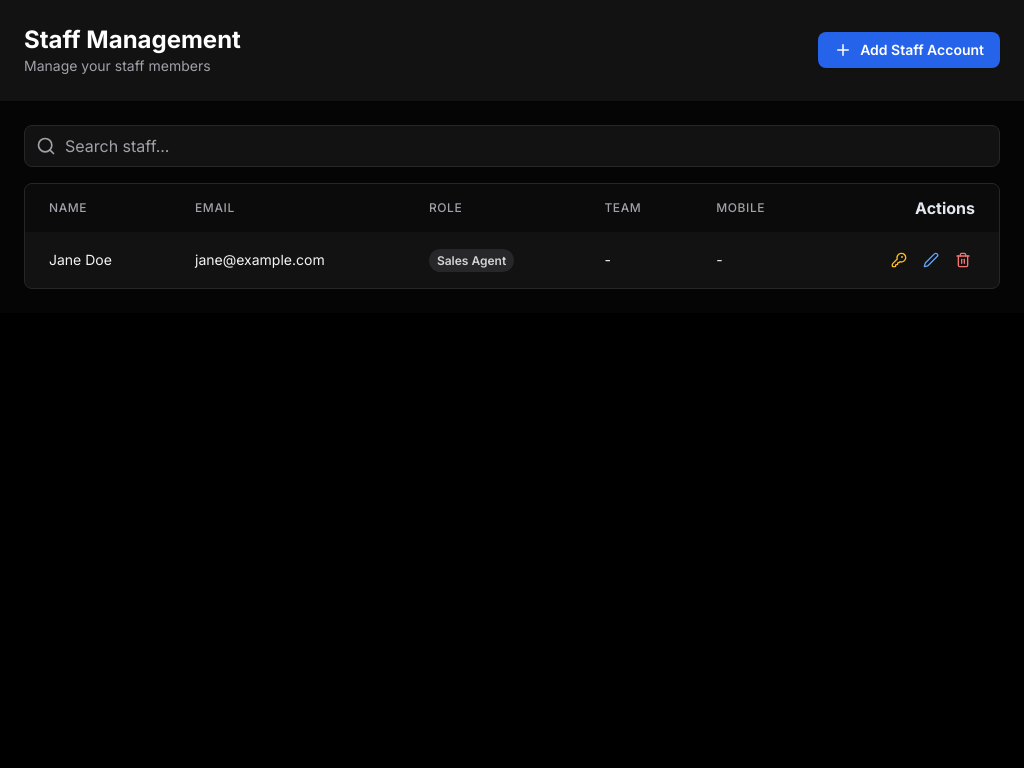
Scenario: Staff Management › lets the Master User change a staff password and warns about sign-out
Click the button named "Change password for Jane Doe" at (899, 260), box [887,248,911,272]
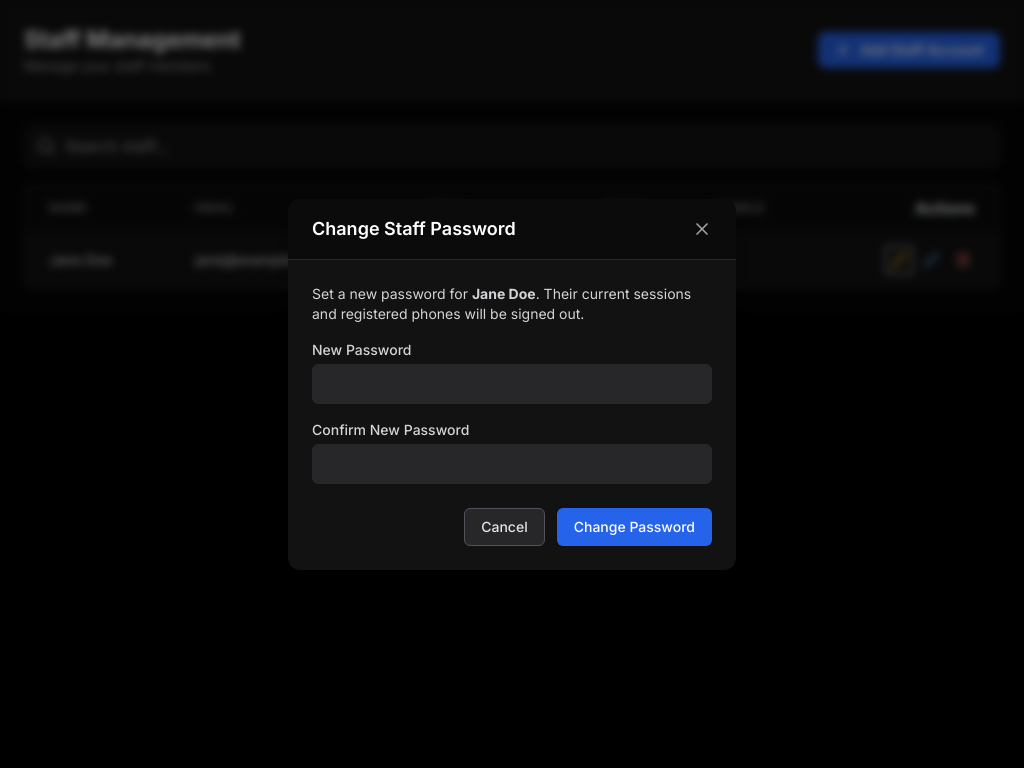
Type "NewStrongPass1" into the password field labelled "New Password" at (512, 384), box [312,364,712,404]
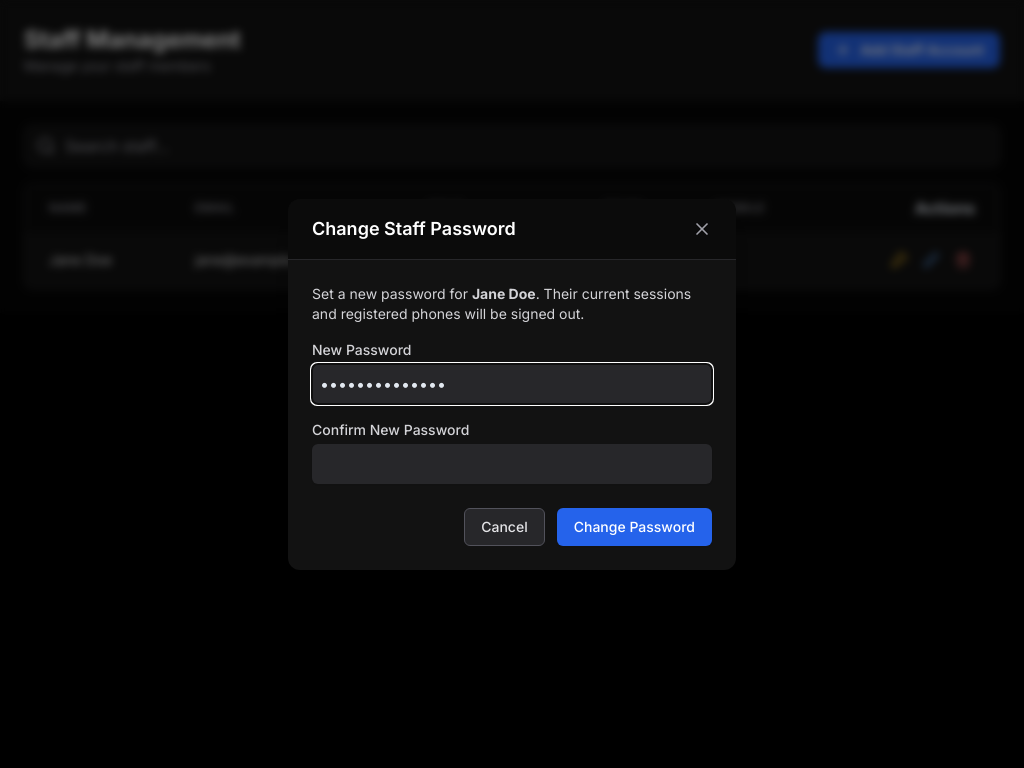
Type "NewStrongPass1" into the password field labelled "Confirm New Password" at (512, 464), box [312,444,712,484]
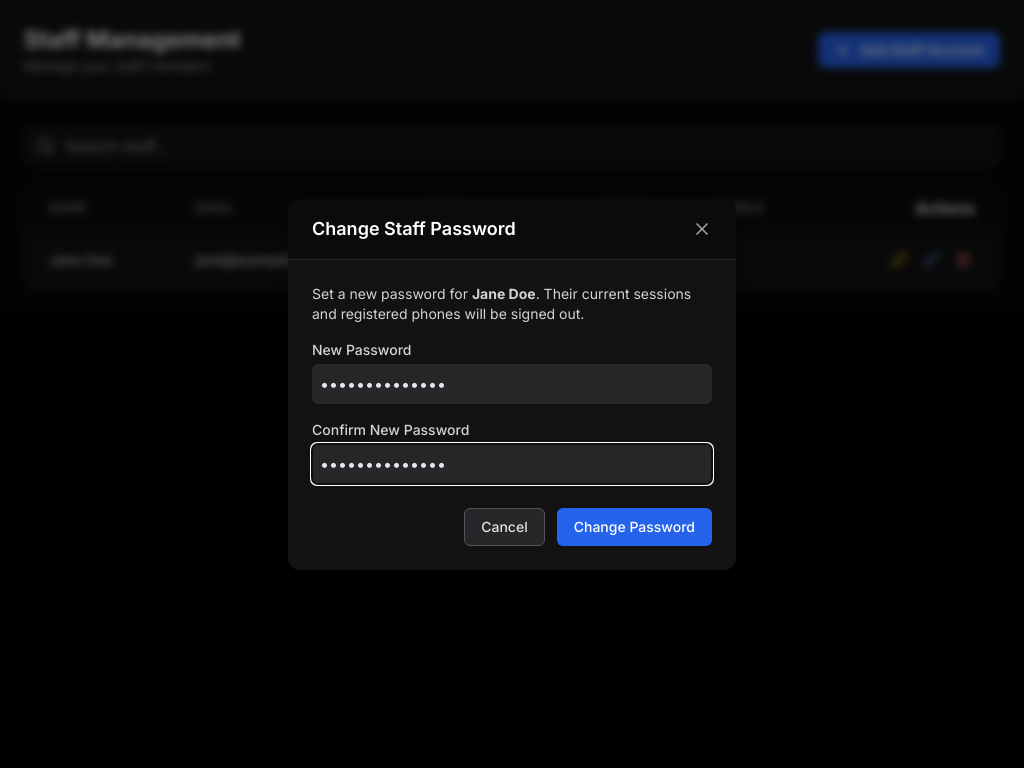
Click the button "Change Password" at (634, 526), box [557,508,712,546]
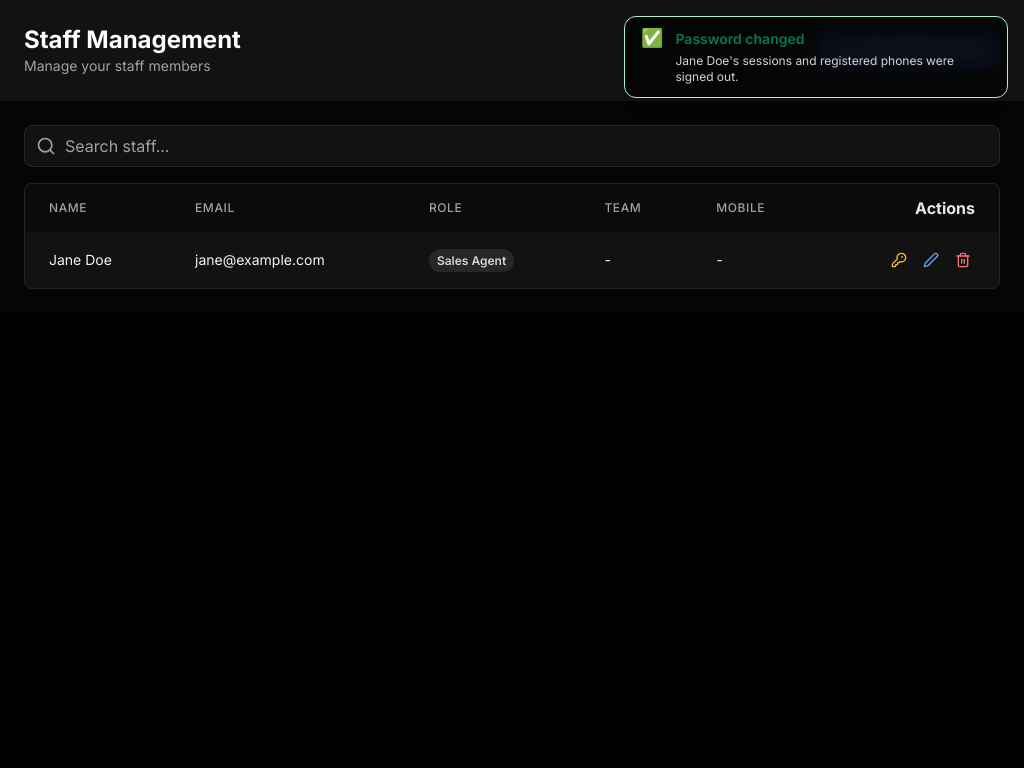
Expected: the text "Jane Doe's sessions and registered phones were signed out." is shown, [676,53,991,85]
Expected: the heading "Change Staff Password" is gone
